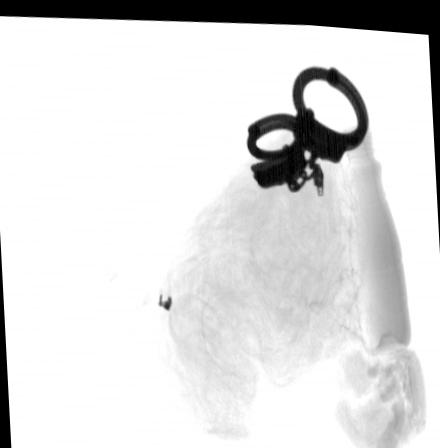Gun: (249, 99, 314, 184)
HandCuffs: (247, 58, 370, 187)
